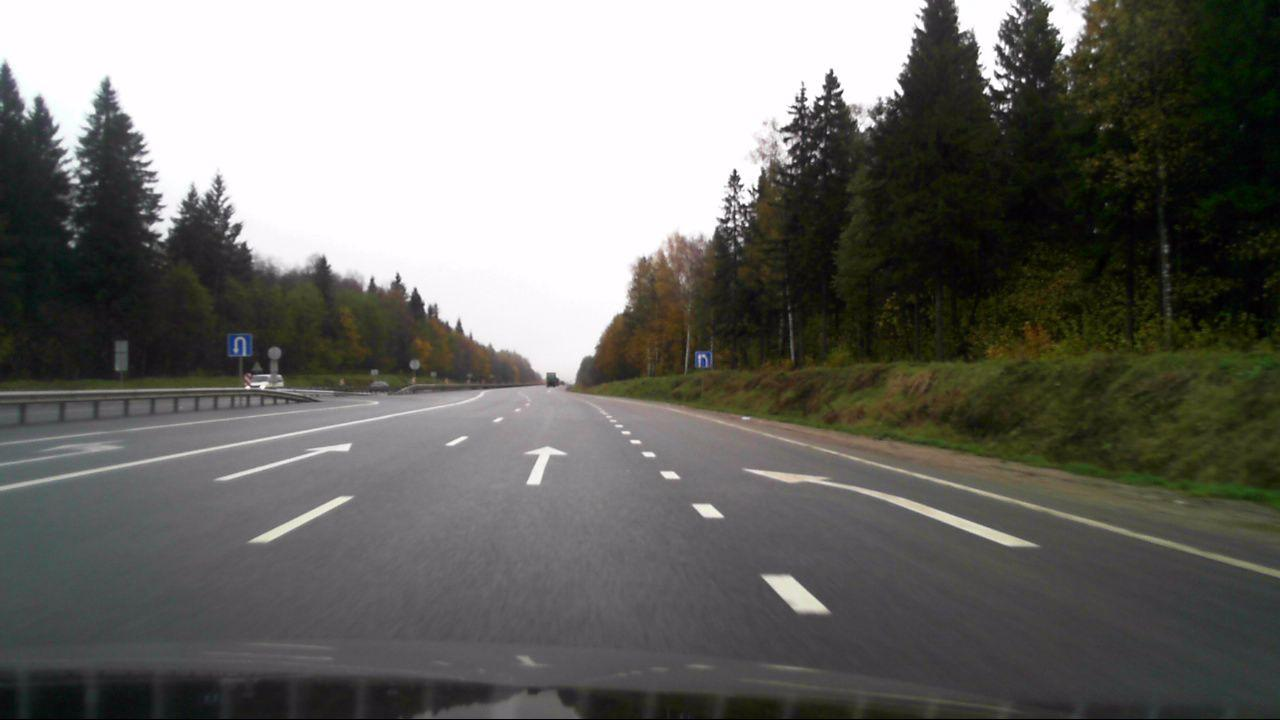5_15_5: (694, 351, 713, 369)
6_3_1: (228, 334, 252, 356)
